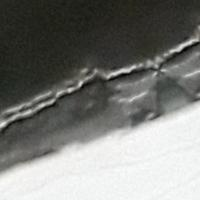crack: (0, 26, 199, 164)
